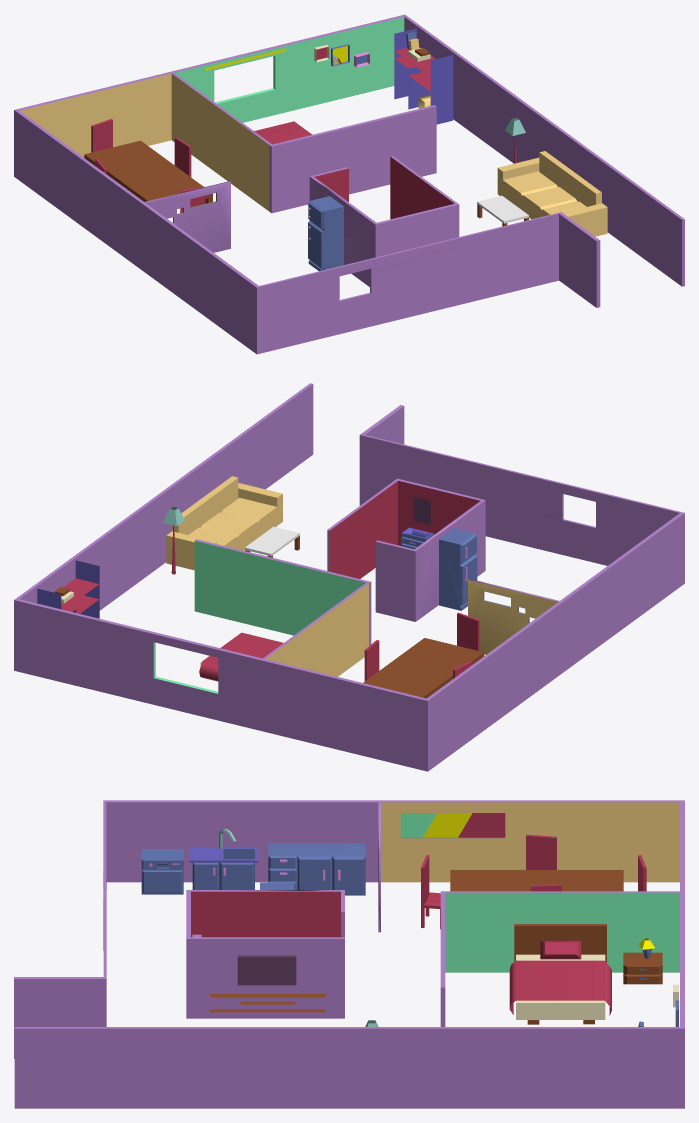
Rendered from house9.obj.
3 renders of one model, top to bottom at view 1: azimuth 30°, elevation 25°; view 2: azimuth 150°, elevation 25°; view 3: azimuth 270°, elevation 25°, orthographic. The views are drawn at different scales.
Parts seen in each view (by area): view 1: house2; view 2: house2; view 3: house2.
Part boxes in pixels (x1,y1,x2,y2): house2: (14, 14, 684, 354); house2: (14, 383, 684, 771); house2: (14, 800, 684, 1108).
Size of the model in its own units: 153 by 25.01 by 189.
